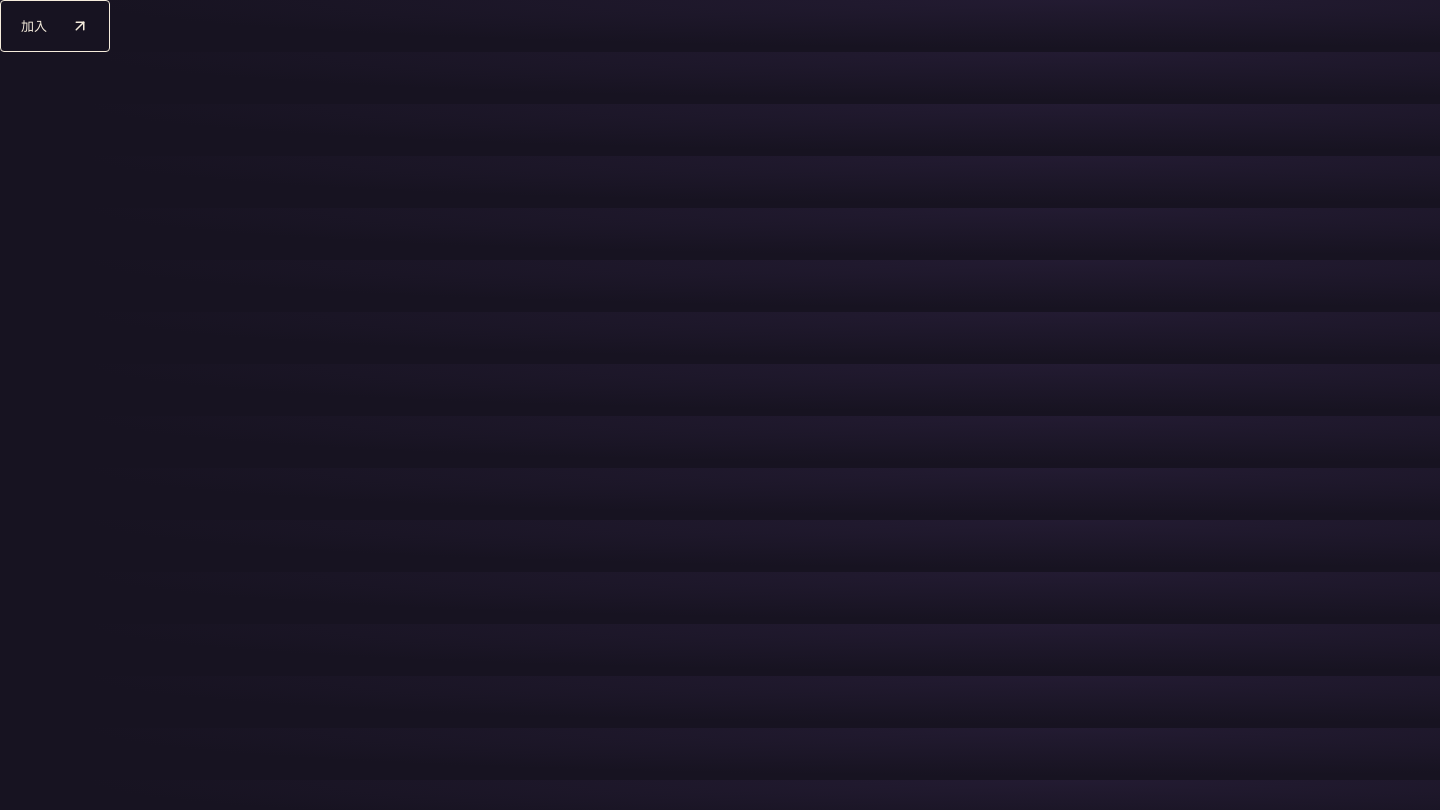
Test: keeps the form available after a server error
The width and height of the screenshot is (1440, 810).
Click the button "加入" at [55, 26], box left=0, top=0, right=110, bottom=52
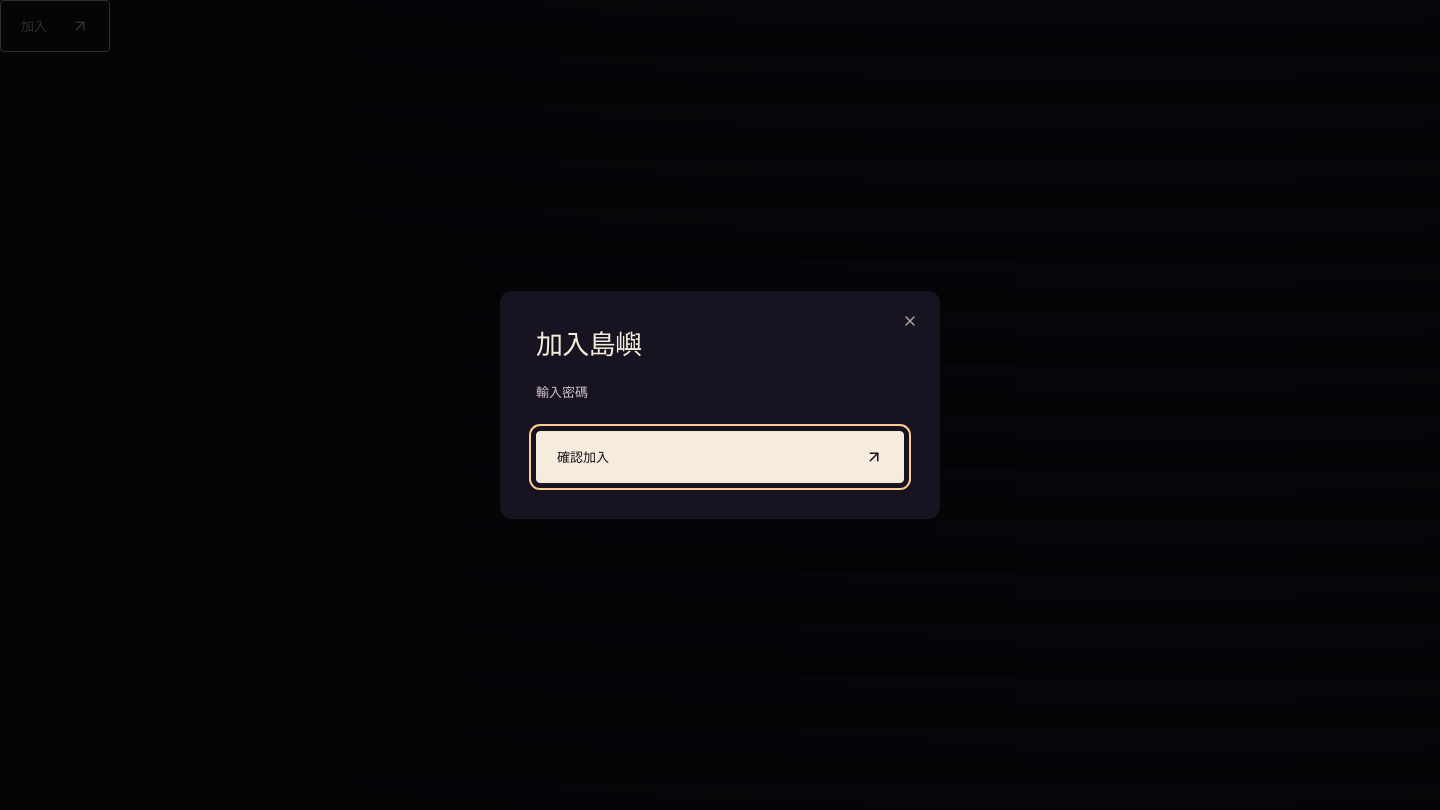
Click the button "確認加入" at [583, 457], box left=536, top=431, right=904, bottom=483
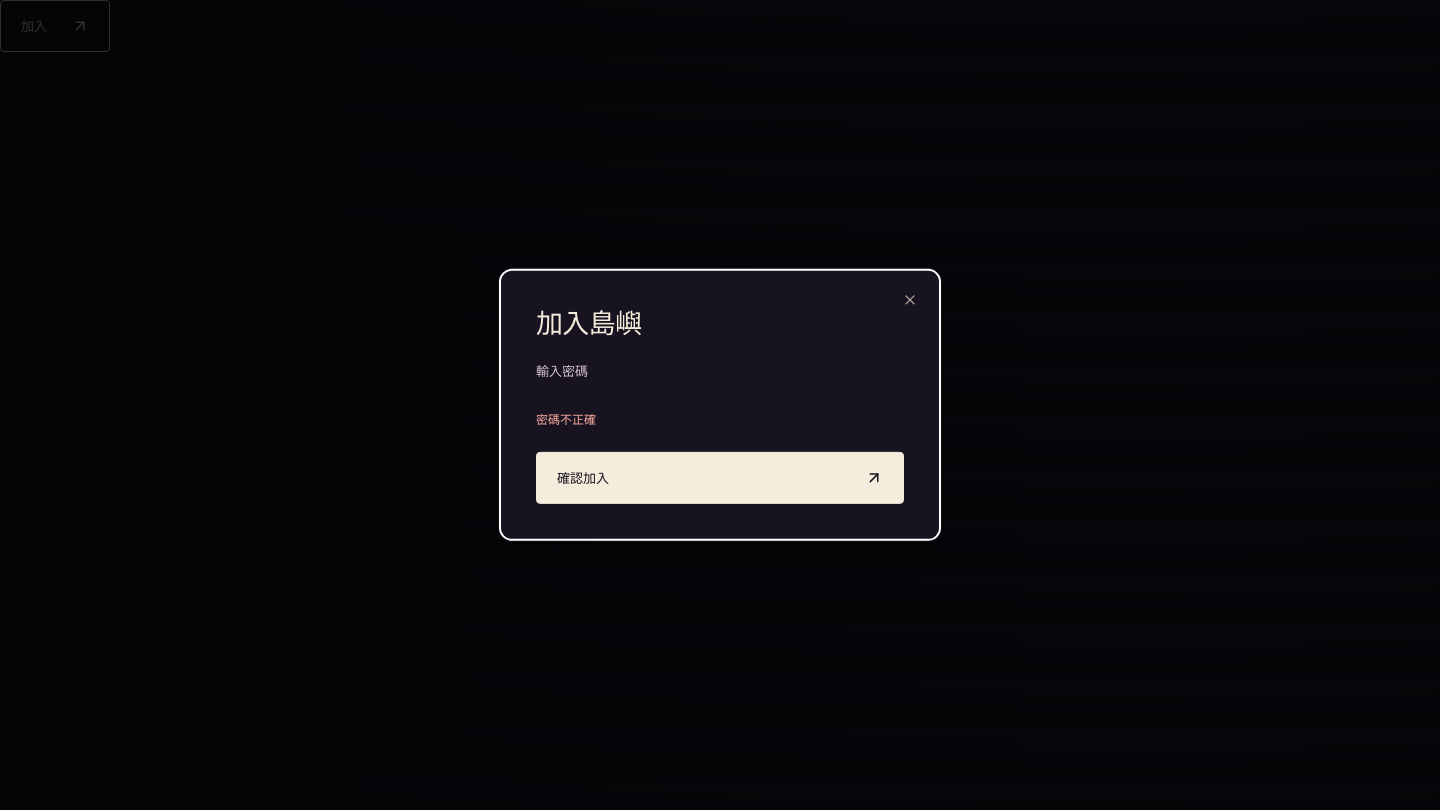
Now the message reads "密碼不正確", box left=536, top=411, right=596, bottom=428
